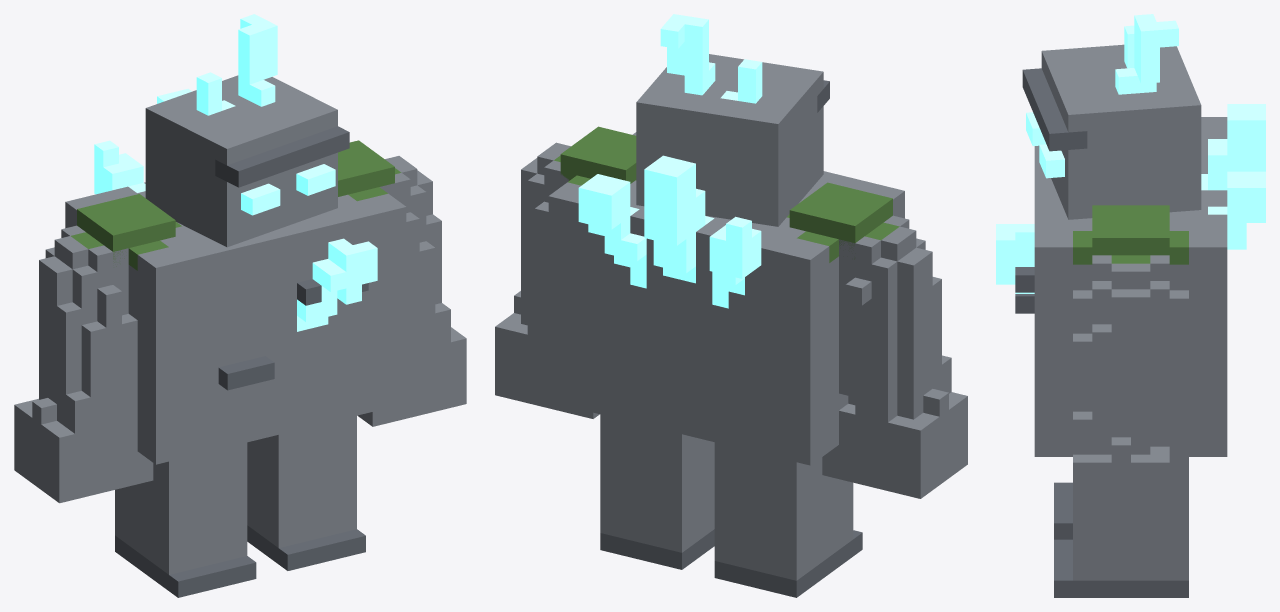
Rendered from Mascota_Piedrin.glb.
3 renders of one model, left to right at view 1: azimuth 30°, elevation 25°; view 2: azimuth 150°, elevation 25°; view 3: azimuth 270°, elevation 25°, orthographic. The views are drawn at different scales.
Visible parts, largest first — view 1: Pedrusco_Torso, Pedrusco_Cabeza, Pedrusco_Brazo2, Pedrusco_Pierna2, Pedrusco_Pierna1, Pedrusco_Brazo1; view 2: Pedrusco_Torso, Pedrusco_Brazo2, Pedrusco_Cabeza, Pedrusco_Pierna2, Pedrusco_Pierna1, Pedrusco_Brazo1; view 3: Pedrusco_Torso, Pedrusco_Cabeza, Pedrusco_Brazo1, Pedrusco_Pierna1, Pedrusco_Pierna2.
Boxes of the visible parts, bbox=[...] form: Pedrusco_Torso: bbox=[65, 88, 406, 464]; Pedrusco_Cabeza: bbox=[145, 14, 349, 247]; Pedrusco_Brazo2: bbox=[14, 225, 153, 503]; Pedrusco_Pierna2: bbox=[115, 442, 256, 597]; Pedrusco_Pierna1: bbox=[247, 415, 365, 570]; Pedrusco_Brazo1: bbox=[357, 156, 466, 426]; Pedrusco_Torso: bbox=[548, 126, 904, 465]; Pedrusco_Brazo2: bbox=[822, 215, 967, 498]; Pedrusco_Cabeza: bbox=[636, 14, 829, 226]; Pedrusco_Pierna2: bbox=[714, 442, 862, 597]; Pedrusco_Pierna1: bbox=[600, 414, 714, 569]; Pedrusco_Brazo1: bbox=[495, 142, 599, 418]; Pedrusco_Torso: bbox=[996, 104, 1265, 456]; Pedrusco_Cabeza: bbox=[1022, 14, 1201, 219]; Pedrusco_Brazo1: bbox=[1073, 255, 1188, 532]; Pedrusco_Pierna1: bbox=[1054, 457, 1188, 597]; Pedrusco_Pierna2: bbox=[1054, 482, 1072, 539].
Bounding box in the file's own units: 1.09 × 1.3 × 0.588.
